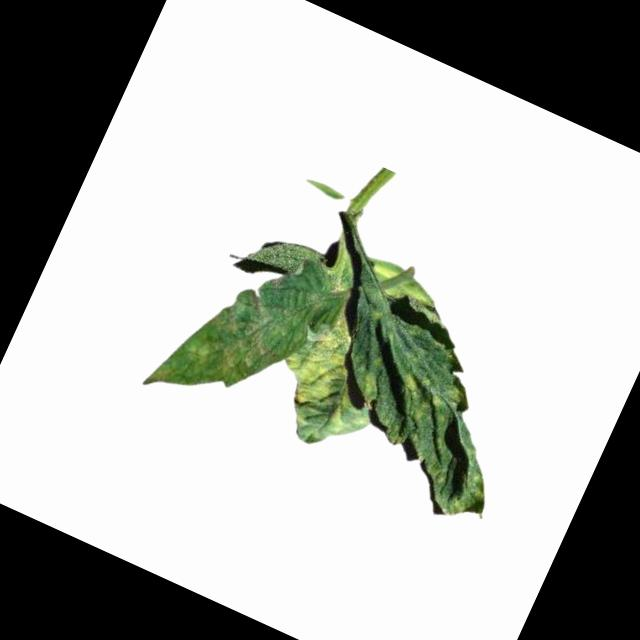Leaf_Mold: (142, 241, 313, 432), (350, 354, 529, 529), (260, 287, 409, 446)
